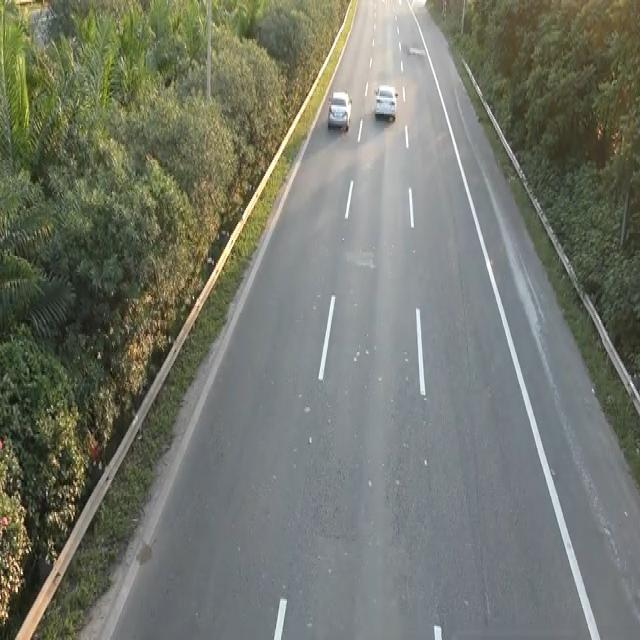bus: (326, 87, 352, 132), (373, 82, 398, 121)
